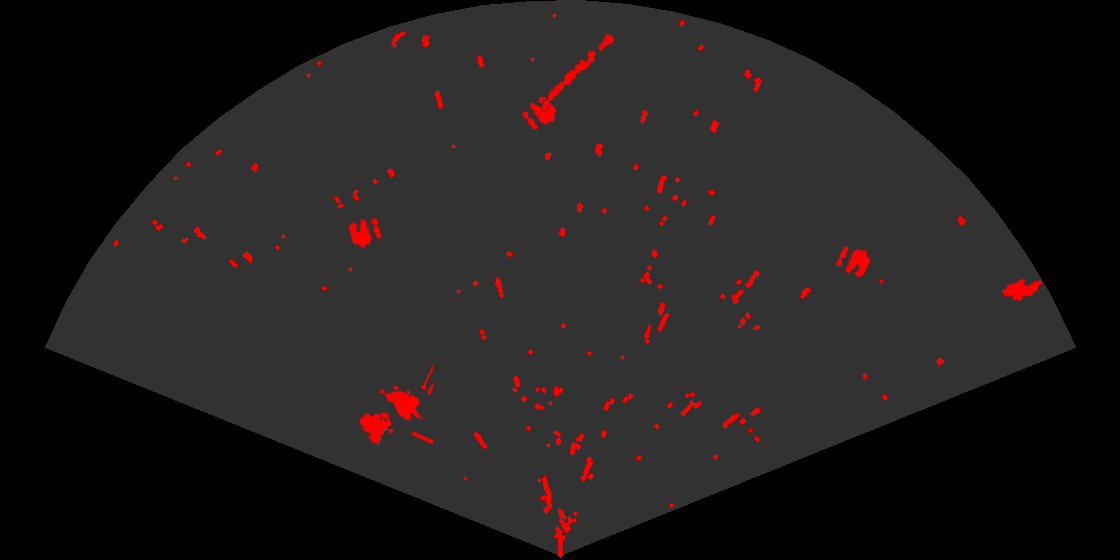AUV: (1000, 277, 1044, 303)
ball: (521, 95, 558, 131), (834, 245, 872, 279), (347, 216, 383, 249)
cage: (358, 364, 433, 446)
chain: (540, 33, 616, 113)
